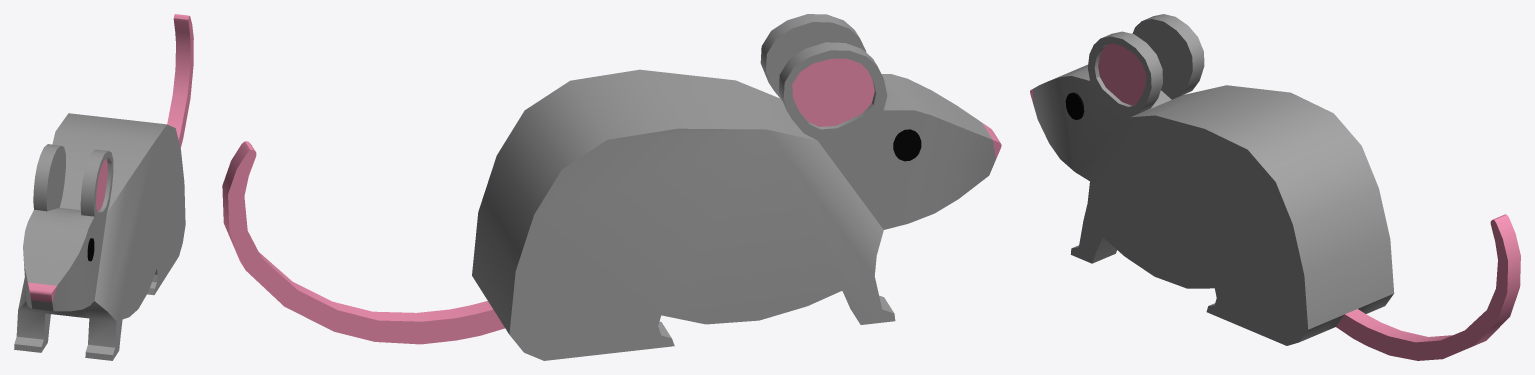
File: mouse.glb
3 renders of one model, left to right at view 1: azimuth 30°, elevation 25°; view 2: azimuth 150°, elevation 25°; view 3: azimuth 270°, elevation 25°, orthographic. The views are drawn at different scales.
Visible parts, largest first — view 1: Plane.138; view 2: Plane.138, Circle.1915; view 3: Plane.138, Circle.1915.
Part boxes in pixels (bbox=[...]): Plane.138: bbox=[14, 14, 193, 360]; Plane.138: bbox=[222, 14, 1001, 360]; Circle.1915: bbox=[893, 129, 921, 161]; Plane.138: bbox=[1030, 14, 1520, 360]; Circle.1915: bbox=[1065, 92, 1084, 119].
Bounding box in the file's own units: 2.33 × 1.17 × 2.33.
1 material, 1 textured.
